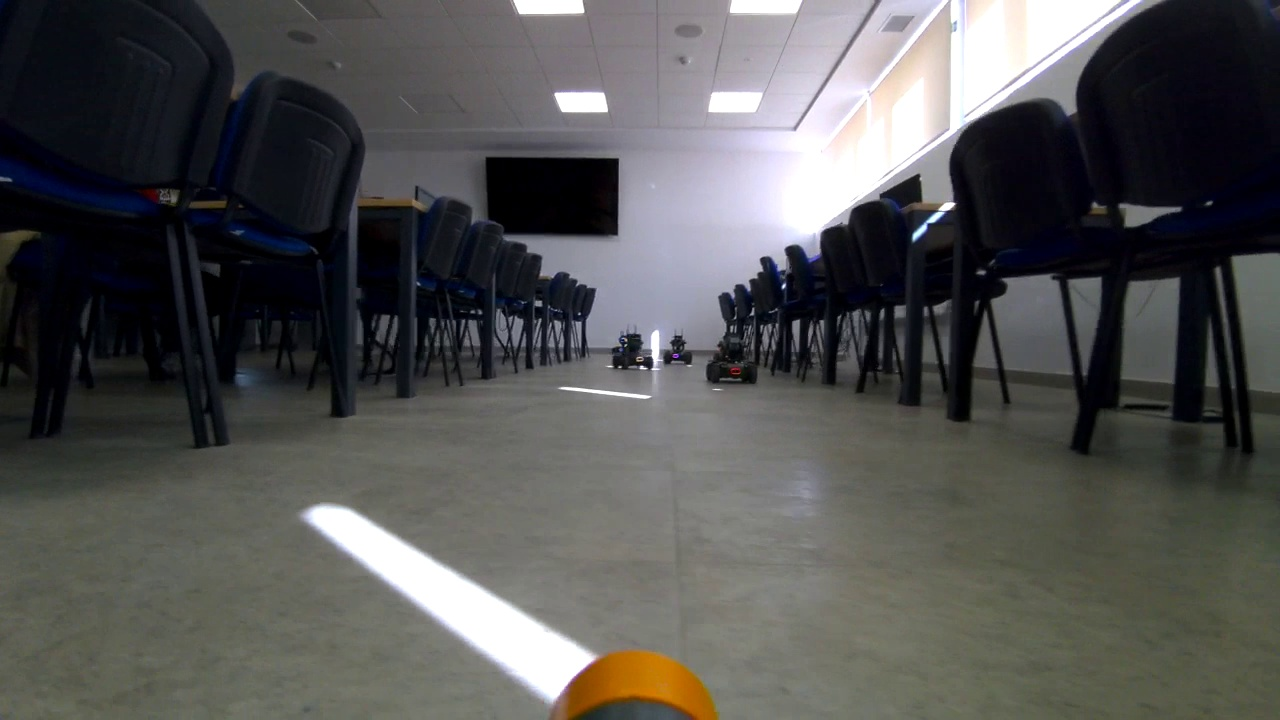robot: (705, 333, 761, 385), (610, 322, 653, 369), (663, 332, 697, 367)
